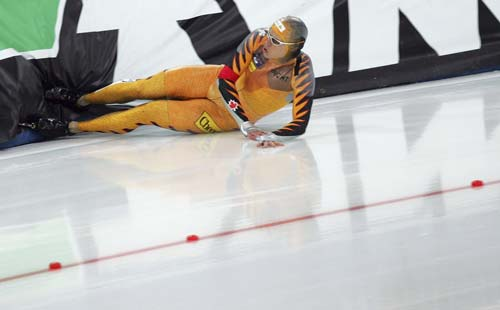down: (20, 5, 316, 153)
